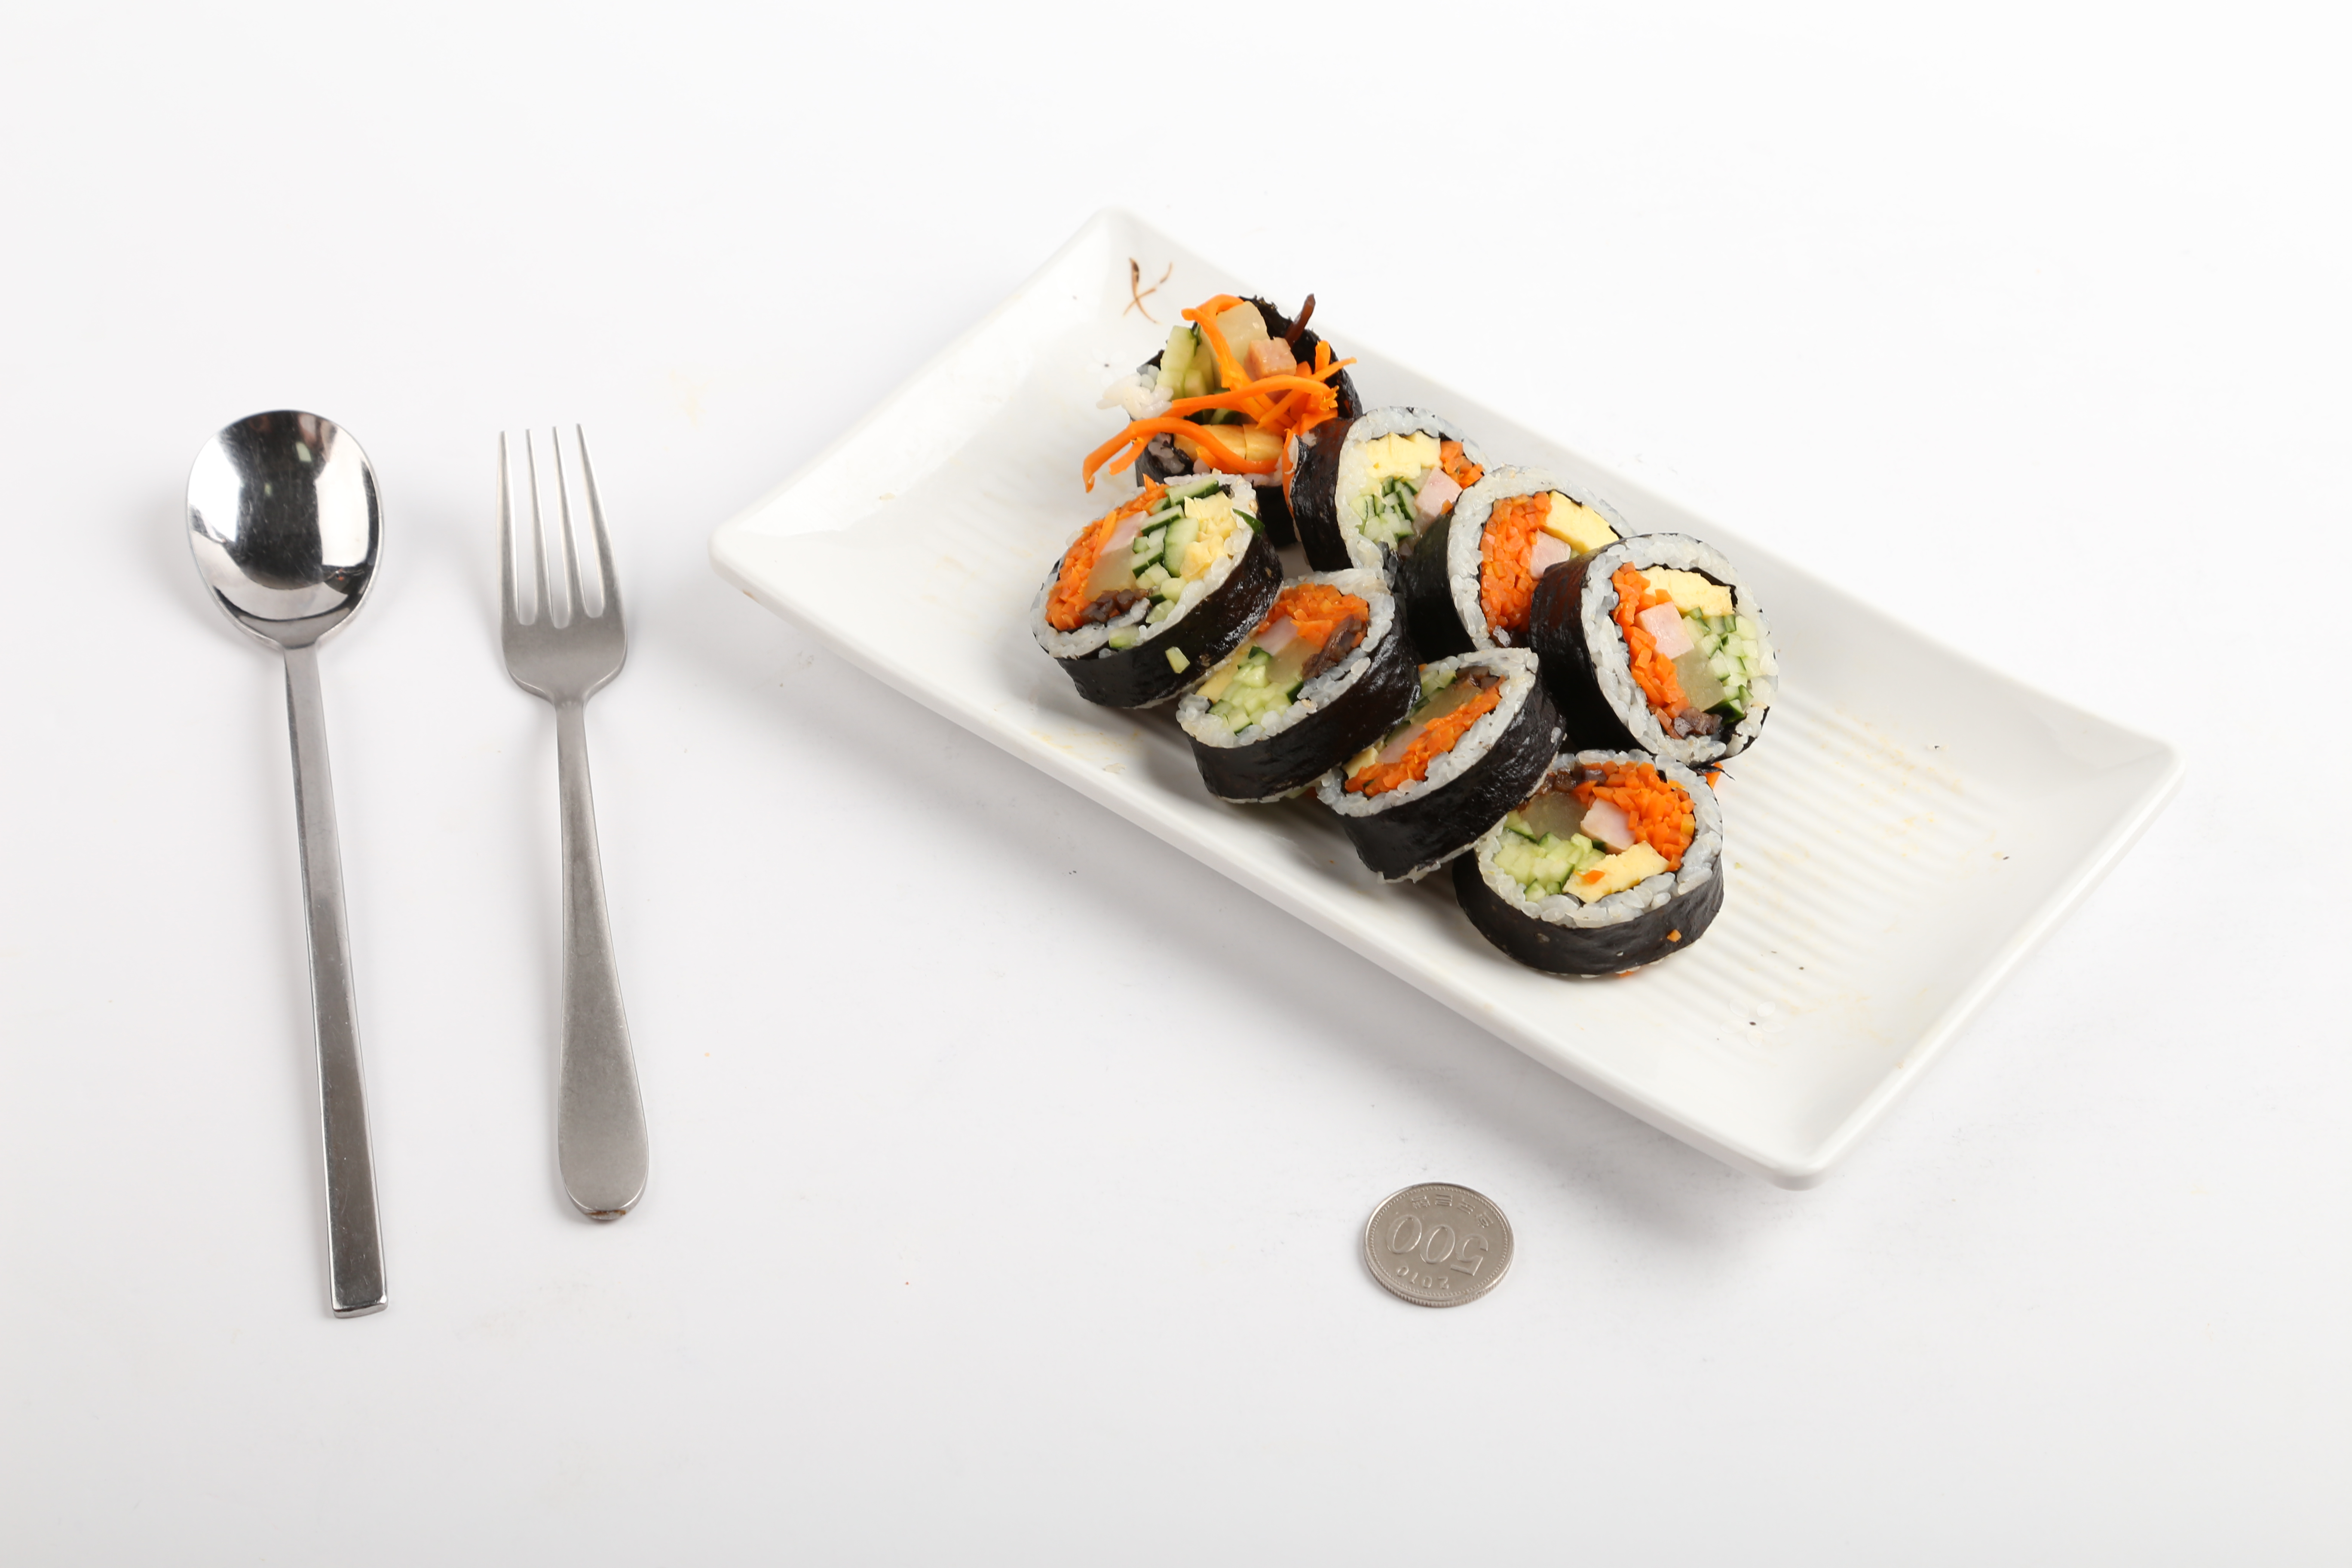dish: (702, 199, 2196, 1195)
ref_coin: (1351, 1174, 1512, 1316)
ref_fork: (488, 416, 635, 763)
ref_spoon: (180, 402, 380, 724)
김밥: (1024, 280, 1778, 982)
